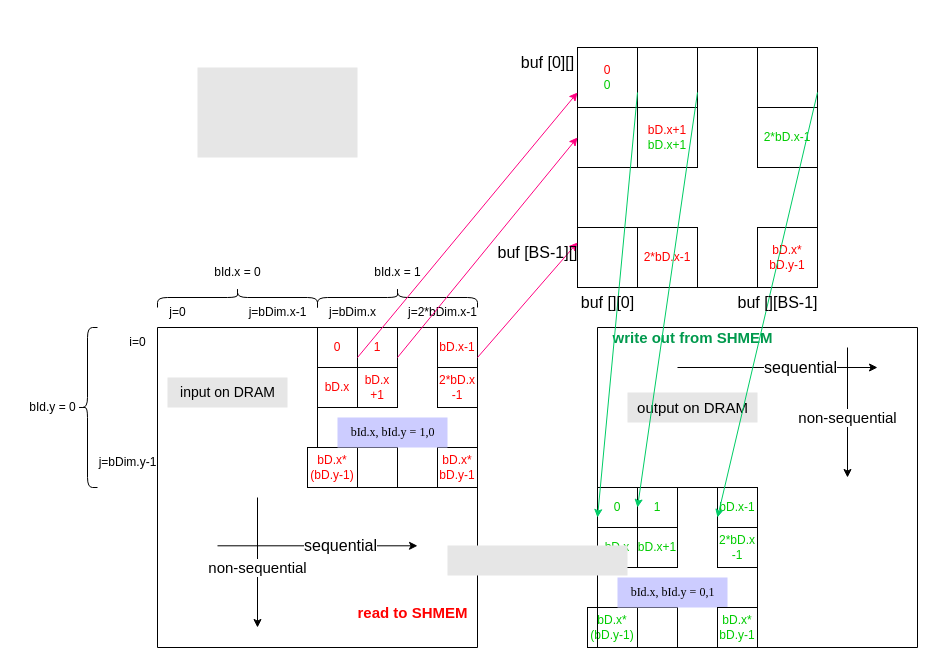
Some shapes in this 935 by 665 pixel diagram are drawn without their labels. Here are the shapes that lost their labels. From the top down, the centre of each, then its label:
At pixel 667 77: "bD.x 1".
At pixel 787 77: "bD.x*(bD.y-1)".
At pixel 277 112: "gridDim.x=2 gridDim.y=2 N = bDim.x*gDim.x M = bDim.y*gDim.y".
At pixel 607 137: "1 bD.x".
At pixel 607 257: "bD.x-1 bD.x*(bD.y-1)".
At pixel 537 560: "buffer on shared memory".
